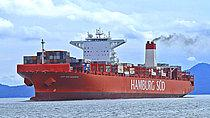Ship: (15, 25, 200, 102)
